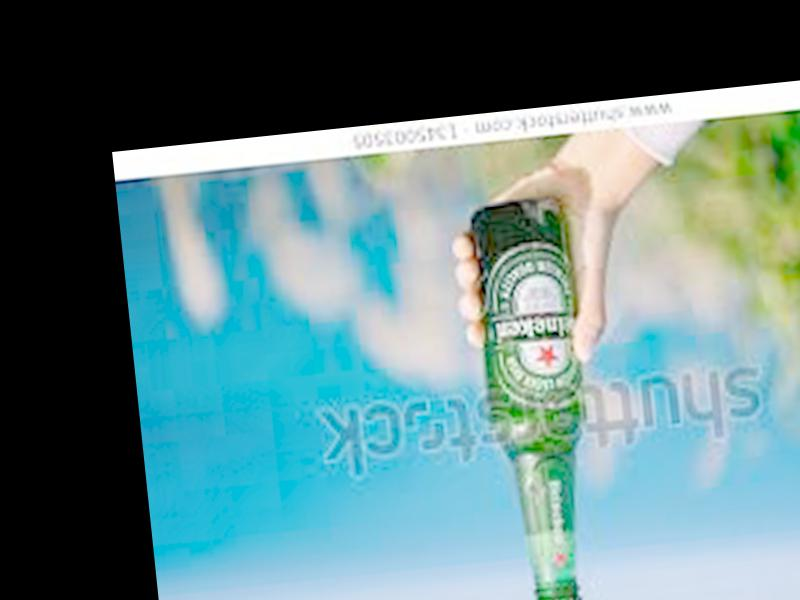Beer: (468, 194, 609, 600)
